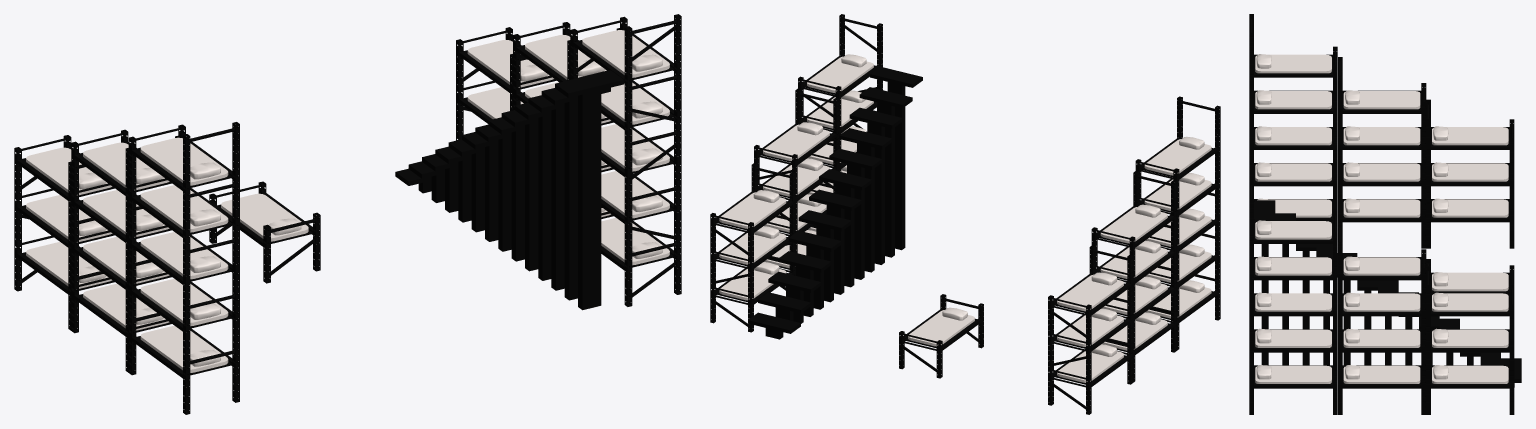
Rendered from BedWithStairs.fbx.
3 views of the same model, side by side, from view 1: azimuth 30°, elevation 25°; view 2: azimuth 150°, elevation 25°; view 3: azimuth 270°, elevation 25° (orthographic). The views are drawn at different scales.
Parts seen in each view (by area): view 1: Stairs, BedLed5.001, BedLed5, BedLed4.001, BedLed3.001, BedLed3, SingleBed, BedLed4; view 2: Stairs, BedLed5.001, BedLed4.001, BedLed3.001, BedLed3, BedLed4, BedLed5, SingleBed; view 3: BedLed5, BedLed5.001, BedLed4, BedLed4.001, BedLed3, BedLed3.001, Stairs, SingleBed.
Boxes of the visible parts, <box> form: Stairs: <box>395,70,624,310</box>; BedLed5.001: <box>128,122,239,414</box>; BedLed5: <box>570,14,681,306</box>; BedLed4.001: <box>71,129,178,372</box>; BedLed3.001: <box>14,135,114,330</box>; BedLed3: <box>456,27,556,140</box>; SingleBed: <box>209,181,320,283</box>; BedLed4: <box>513,22,619,218</box>; Stairs: <box>748,66,922,339</box>; BedLed5.001: <box>1135,96,1220,350</box>; BedLed4.001: <box>1091,171,1176,382</box>; BedLed3.001: <box>1048,245,1132,414</box>; BedLed3: <box>710,163,795,332</box>; BedLed4: <box>754,88,838,290</box>; BedLed5: <box>798,14,882,231</box>; SingleBed: <box>899,294,983,378</box>; BedLed5: <box>1249,180,1337,414</box>; BedLed5.001: <box>1249,14,1337,220</box>; BedLed4: <box>1338,223,1426,414</box>; BedLed4.001: <box>1338,57,1426,248</box>; BedLed3: <box>1426,266,1514,414</box>; BedLed3.001: <box>1426,99,1514,248</box>; Stairs: <box>1255,200,1521,387</box>; SingleBed: <box>1426,259,1514,293</box>.
Bounding box in the file's own units: 40.76 × 66.36 × 35.4.
